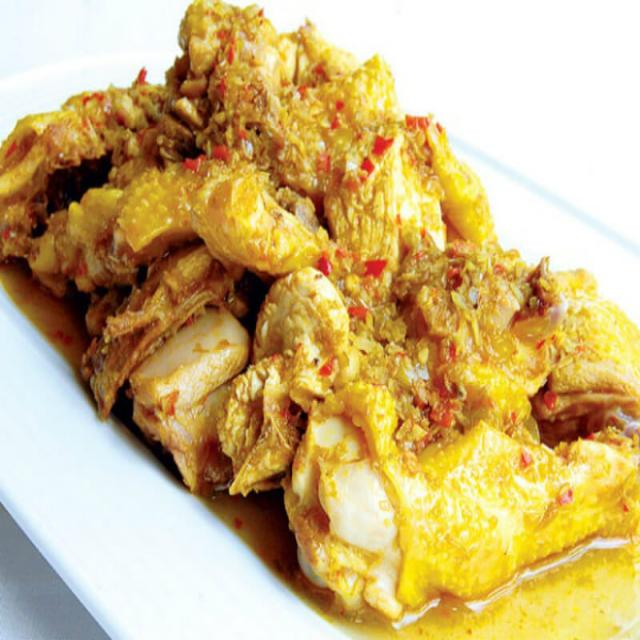ga kho: (0, 0, 639, 639)
